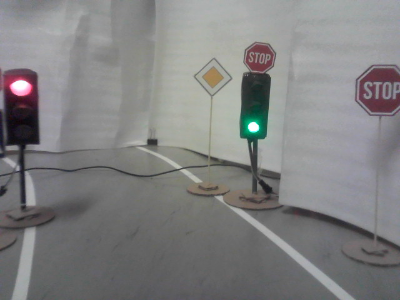priority_road: (194, 59, 232, 95)
stop: (356, 65, 400, 115), (244, 43, 274, 72)
trafficlight_green: (241, 75, 266, 138)
trafficlight_red: (5, 73, 35, 143)
